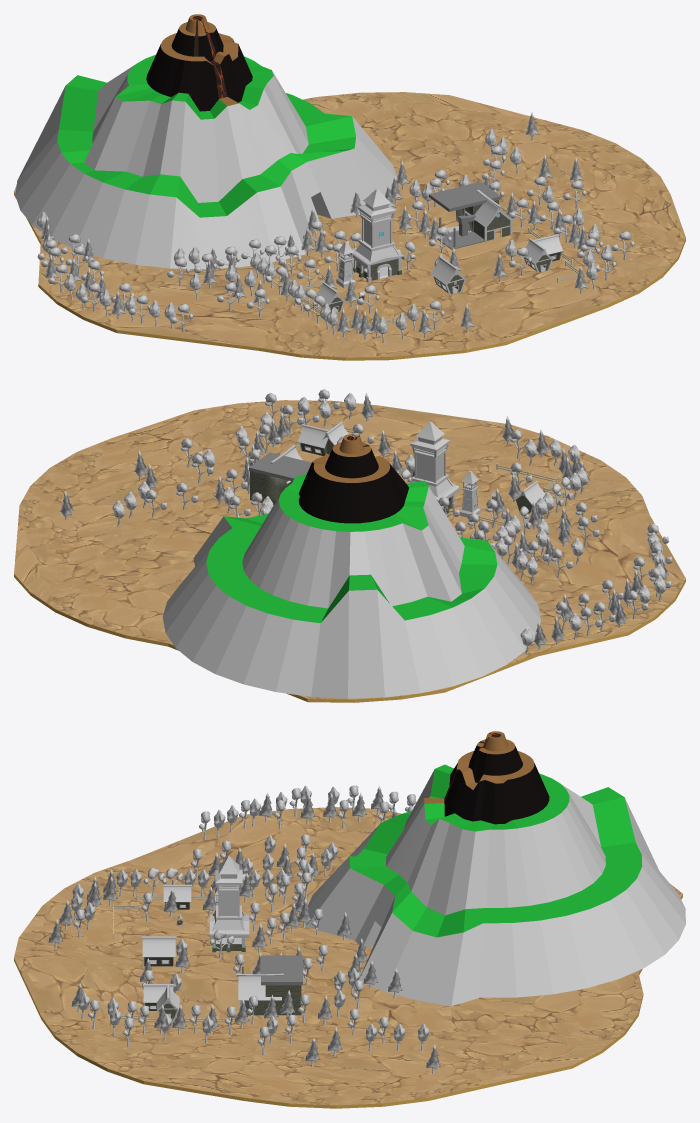
The model's file is TerebinthIsla_with_fence (1).fbx.
The picture shows the model from 3 angles, top to bottom: view 1: azimuth 30°, elevation 25°; view 2: azimuth 150°, elevation 25°; view 3: azimuth 270°, elevation 25°; orthographic projection. The views are drawn at different scales.
Parts seen in each view (by area): view 1: Volcano.001, Volcano, pCube42, pCube82, polySurface19.003, pCube179, pCube79.001; view 2: Volcano.001, Volcano, pCube82, pCube42, polySurface19.003, pCube79.001, pCube14.002; view 3: Volcano.001, Volcano, pCube42, pCube82, pCube179, polySurface19.003, pCube14.002.
Part boxes in pixels (bbox=[...]): Volcano.001: bbox=[14, 92, 685, 360]; Volcano: bbox=[15, 14, 397, 269]; pCube42: bbox=[429, 181, 513, 249]; pCube82: bbox=[349, 189, 405, 282]; polySurface19.003: bbox=[523, 234, 563, 272]; pCube179: bbox=[430, 256, 467, 294]; pCube79.001: bbox=[336, 242, 355, 287]; Volcano.001: bbox=[14, 400, 685, 702]; Volcano: bbox=[162, 434, 540, 698]; pCube82: bbox=[410, 422, 459, 513]; pCube42: bbox=[249, 445, 311, 504]; polySurface19.003: bbox=[297, 421, 348, 455]; pCube79.001: bbox=[460, 471, 480, 517]; pCube14.002: bbox=[514, 480, 545, 513]; Volcano.001: bbox=[14, 807, 682, 1108]; Volcano: bbox=[306, 731, 685, 1006]; pCube42: bbox=[236, 955, 302, 1015]; pCube82: bbox=[209, 856, 249, 952]; pCube179: bbox=[142, 936, 176, 966]; polySurface19.003: bbox=[143, 984, 179, 1020]; pCube14.002: bbox=[163, 884, 191, 909].
Size of the model in its own units: 17036 by 5137 by 16200.
